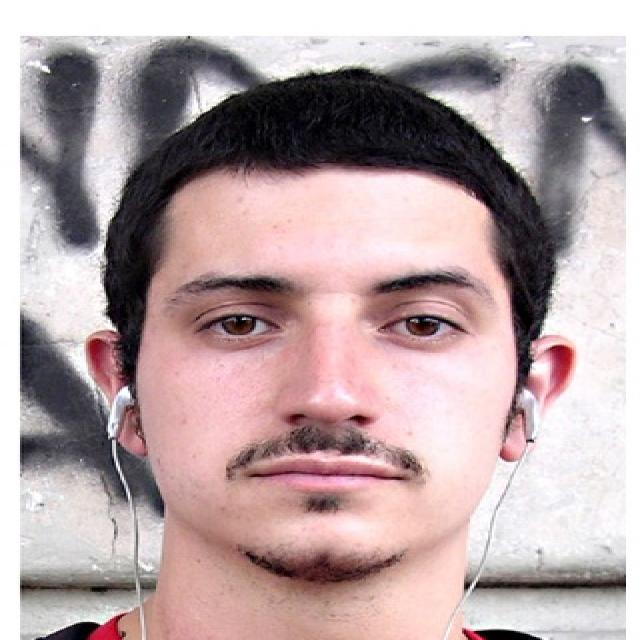Nonhelmet: (69, 50, 581, 590)
